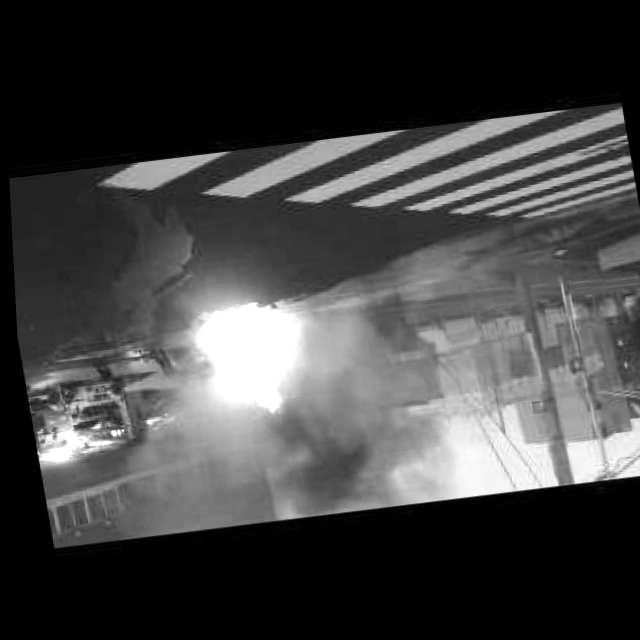fire: (254, 386, 366, 526), (194, 320, 300, 418)
